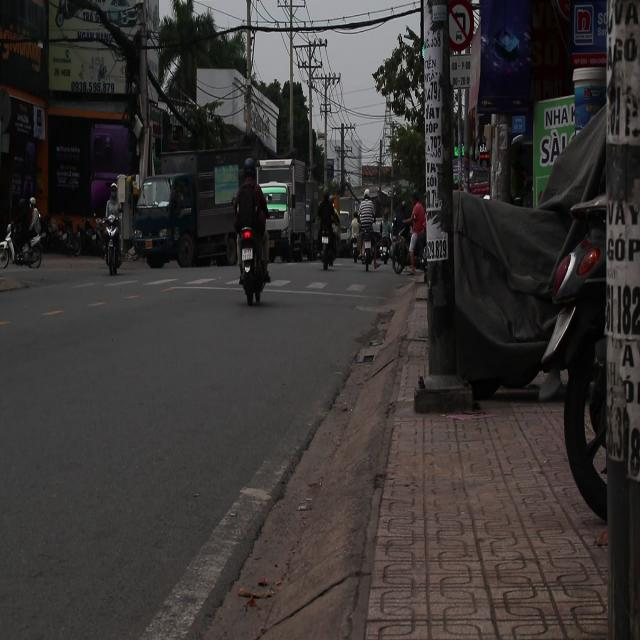motorbike: (216, 184, 278, 311), (93, 188, 129, 284), (384, 209, 431, 279), (308, 200, 338, 275), (352, 193, 378, 279), (4, 227, 41, 268)
truck: (128, 146, 279, 273), (255, 159, 315, 261)
